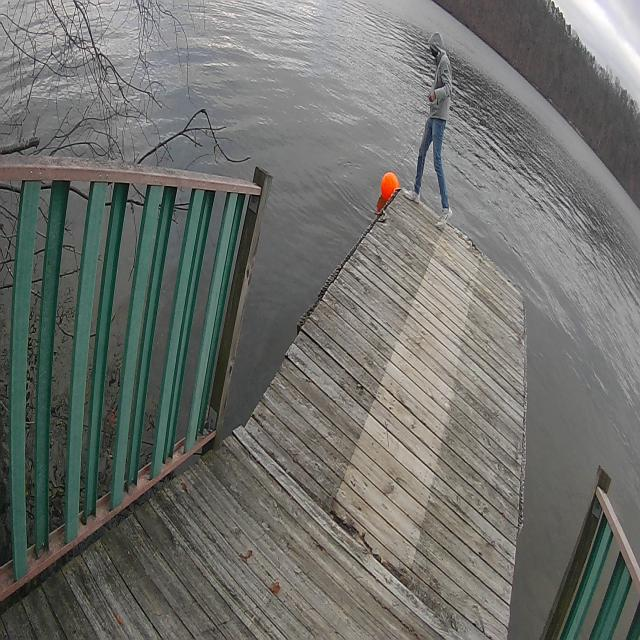Buoy: (381, 171, 400, 204)
